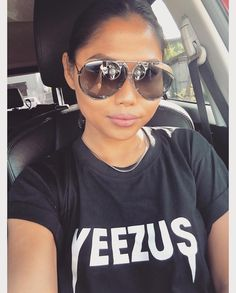sunglasses: (79, 62, 171, 95)
